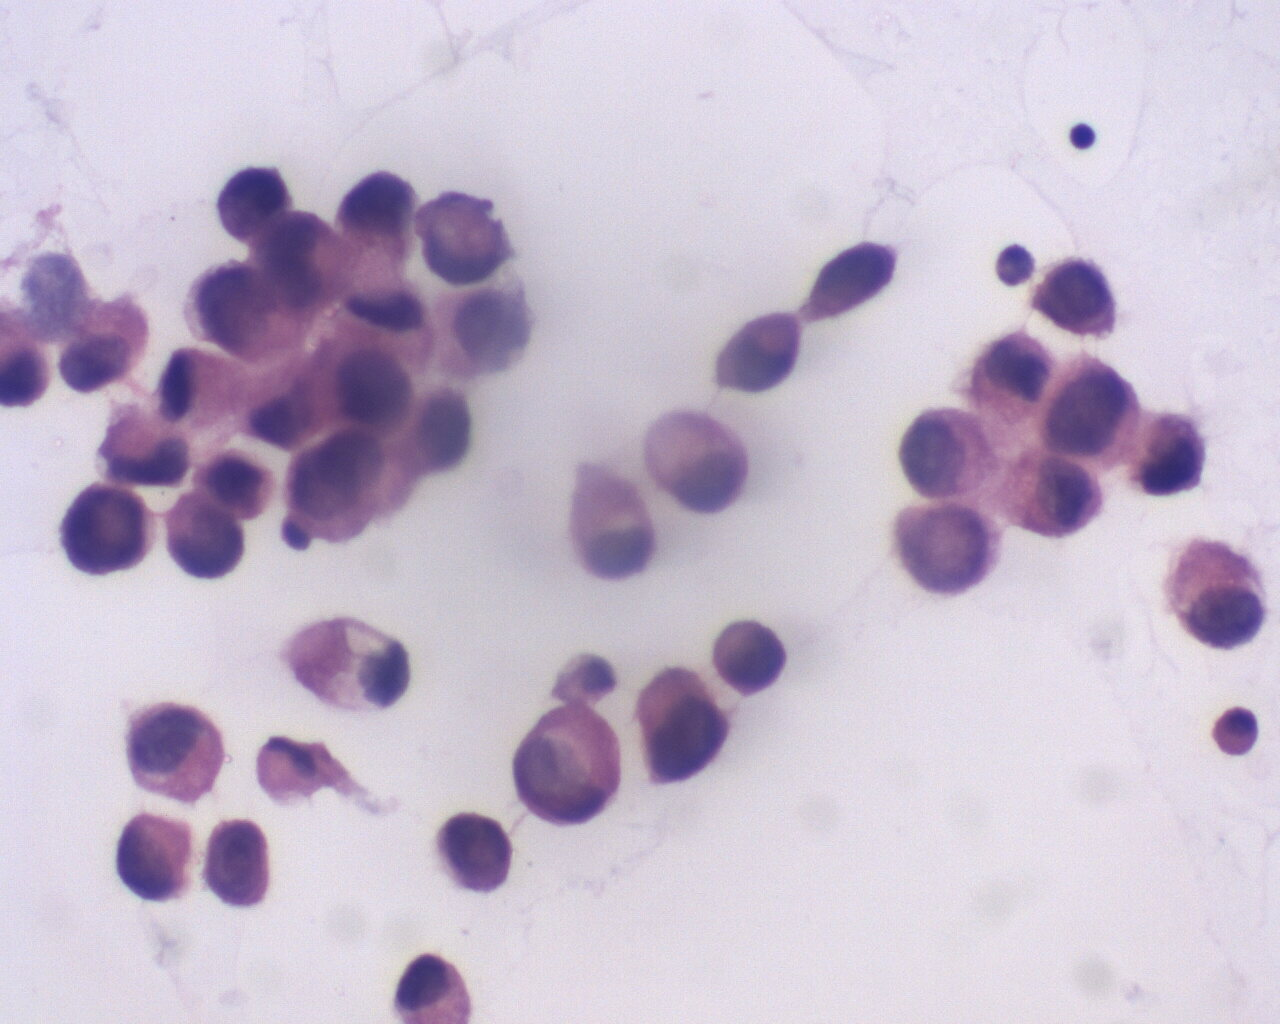ab: (507, 700, 628, 828), (1162, 534, 1264, 660), (628, 661, 730, 783), (287, 423, 387, 546), (1041, 350, 1141, 468), (895, 499, 1013, 600), (306, 327, 416, 432), (51, 484, 159, 580), (899, 401, 995, 502), (1001, 449, 1106, 541), (109, 808, 197, 906), (802, 238, 900, 324), (159, 490, 249, 582), (1031, 253, 1117, 342), (200, 813, 283, 904), (1130, 405, 1210, 499), (334, 166, 420, 254), (438, 805, 516, 897), (709, 616, 791, 704), (199, 442, 280, 521), (213, 168, 300, 238)
lymph: (1065, 116, 1100, 159)
meso: (119, 699, 228, 808), (1209, 700, 1261, 759)
